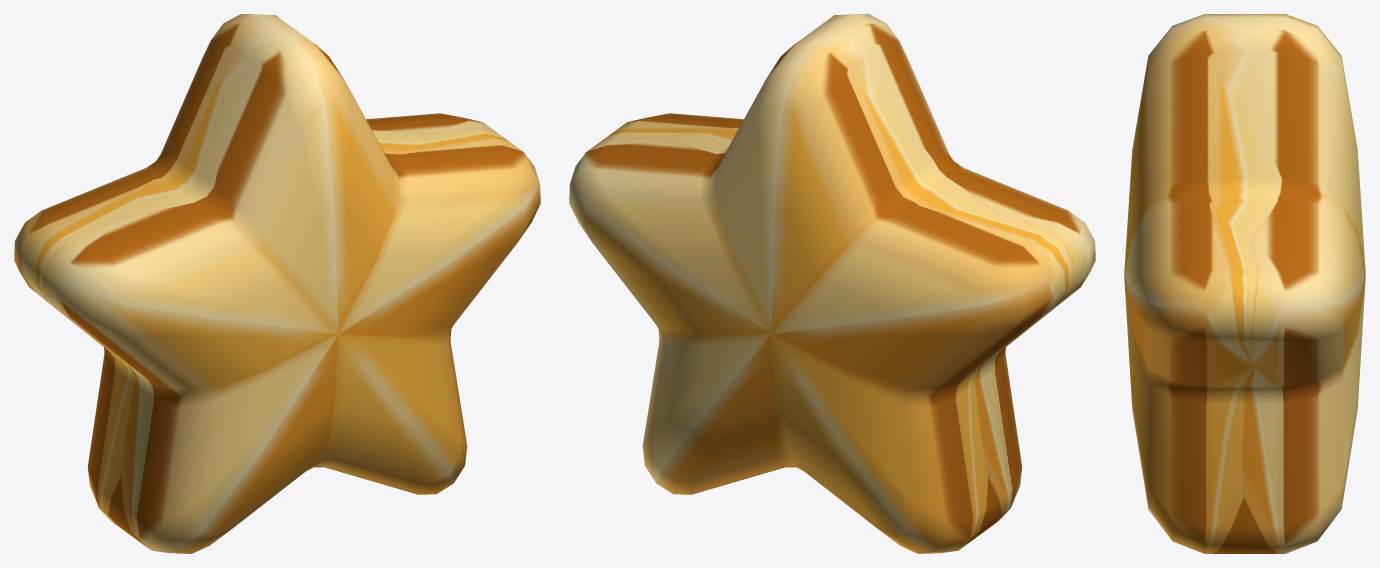
The model's file is star.fbx.
3 views of the same model, side by side, from view 1: azimuth 30°, elevation 25°; view 2: azimuth 150°, elevation 25°; view 3: azimuth 270°, elevation 25° (orthographic).
Parts seen in each view (by area): view 1: StarToken; view 2: StarToken; view 3: StarToken.
Part boxes in pixels (x1,y1,x2,y2): StarToken: (14,14,540,553); StarToken: (569,14,1095,553); StarToken: (1124,14,1365,553).
Size of the model in its own units: 101 by 97.14 by 45.
